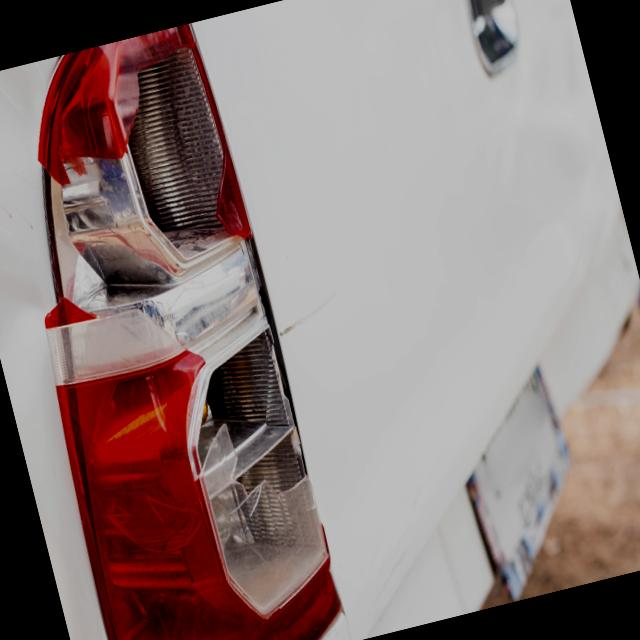Phare abime: (0, 19, 359, 640)
